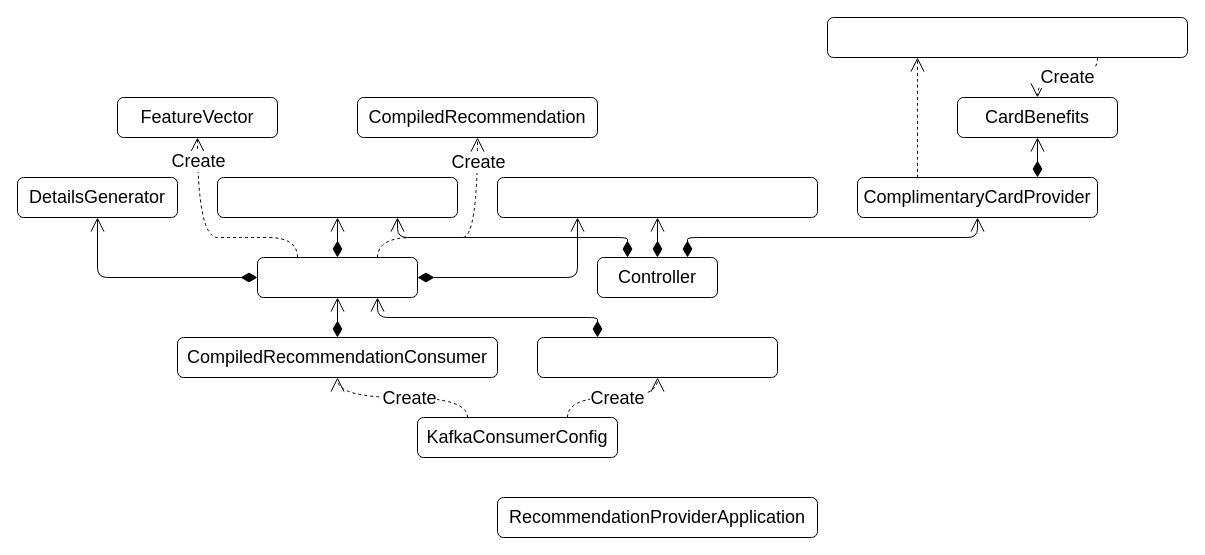
Image size: 1205x555. Some labels were removed from this diagram. Each missing label, with the centre of its shape:
"CompiledRecommendationRepository" belongs at (657,197).
"ComplimentaryCardRepositoryBuilder" belongs at (1007,37).
"DatabaseHandler" belongs at (337,277).
"FeatureVectorConsumer" belongs at (657,357).
"FeatureVectorRepository" belongs at (337,197).
